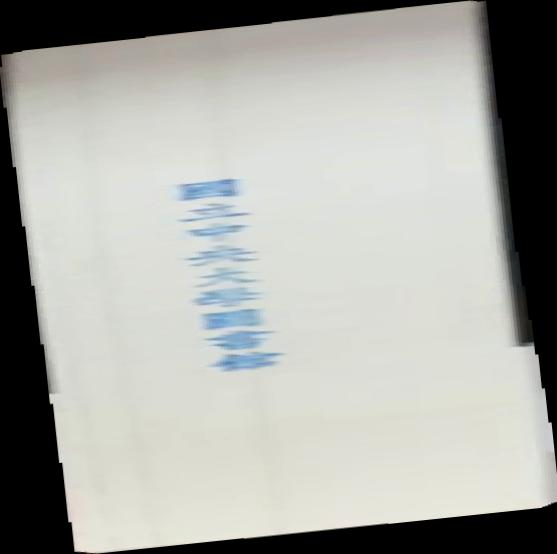backward: (1, 1, 557, 554)
